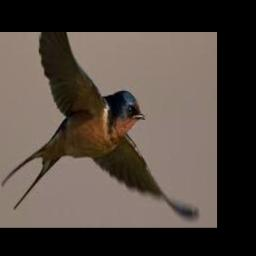Swallow: (2, 32, 202, 228)
